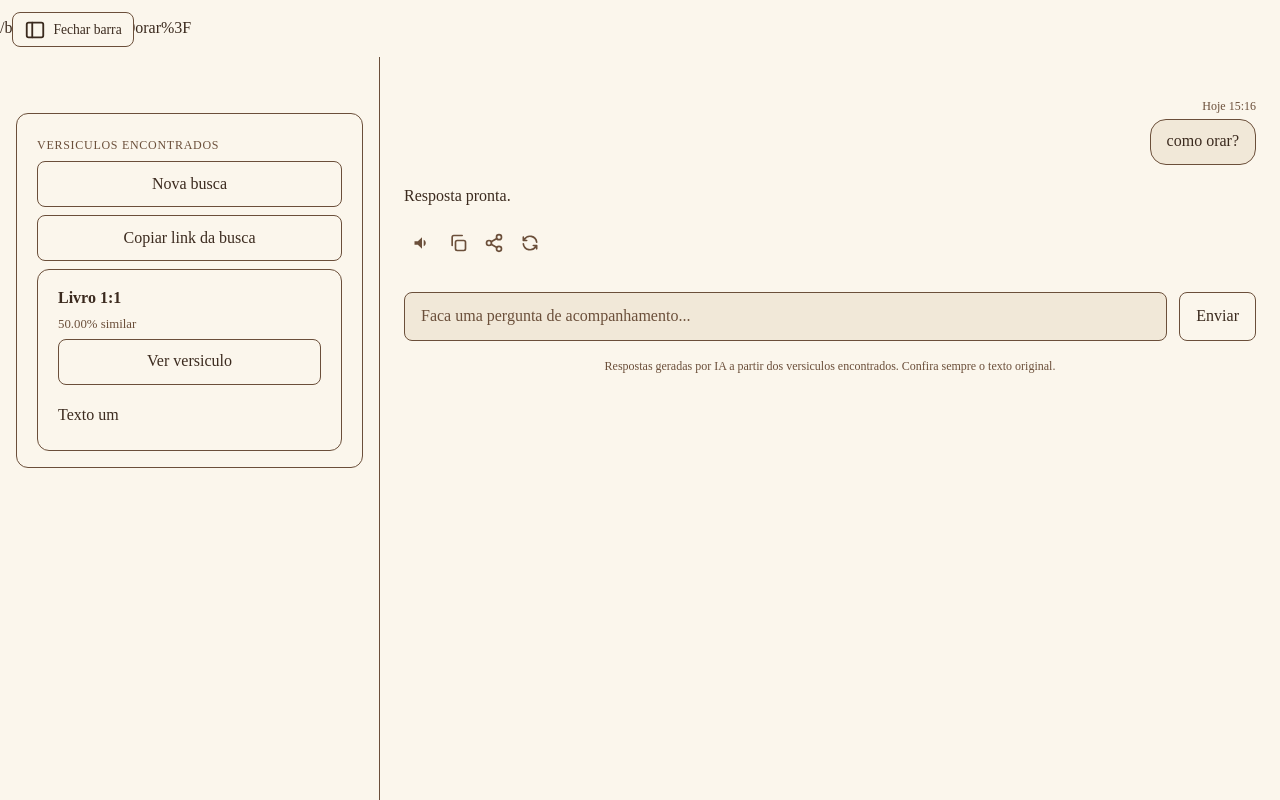
it: copiar link da busca › se o navegador nao deixar copiar, explica o que fazer
Check: the text "Resposta pronta." is shown, box [404,187,511,204]
Click the button "Copiar link da busca". click: (190, 238)
box: [37,215,342,261]
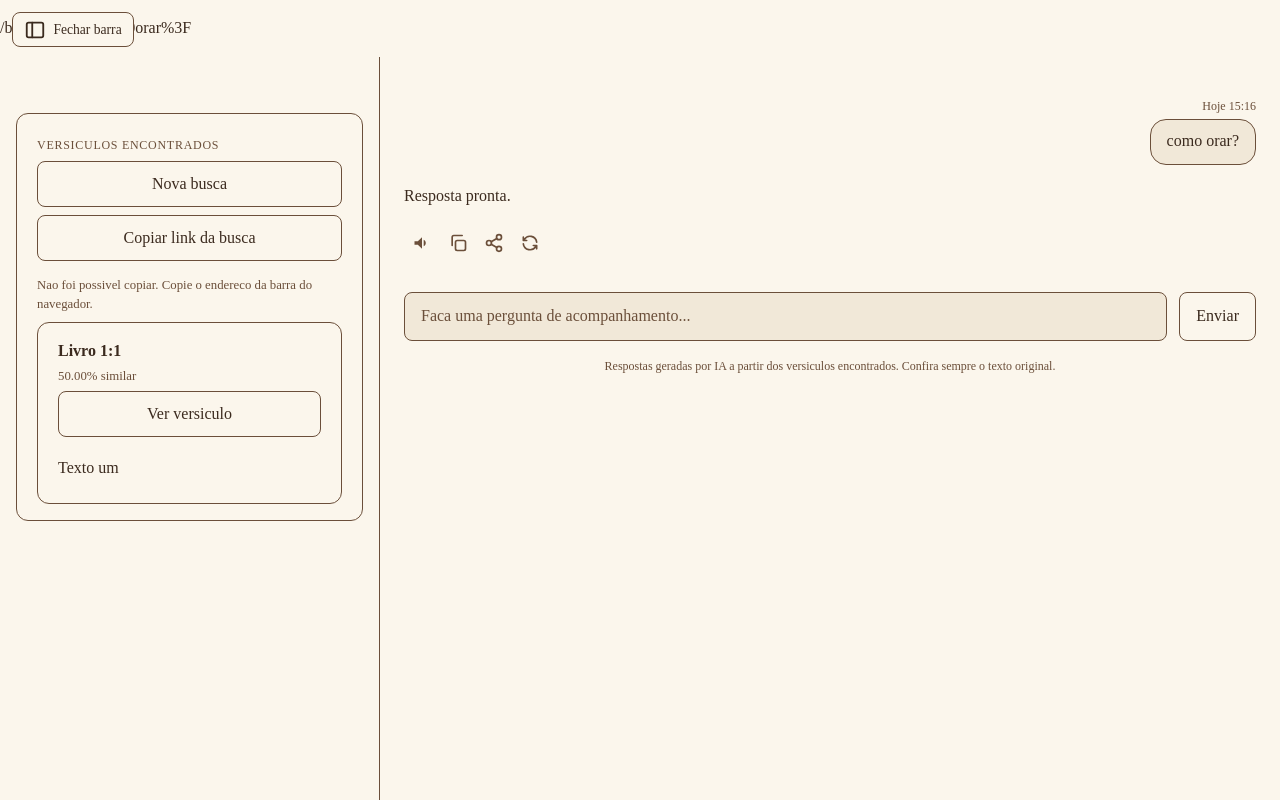
Check: the message shows "Nao foi possivel copiar", box [37,278,312,311]
